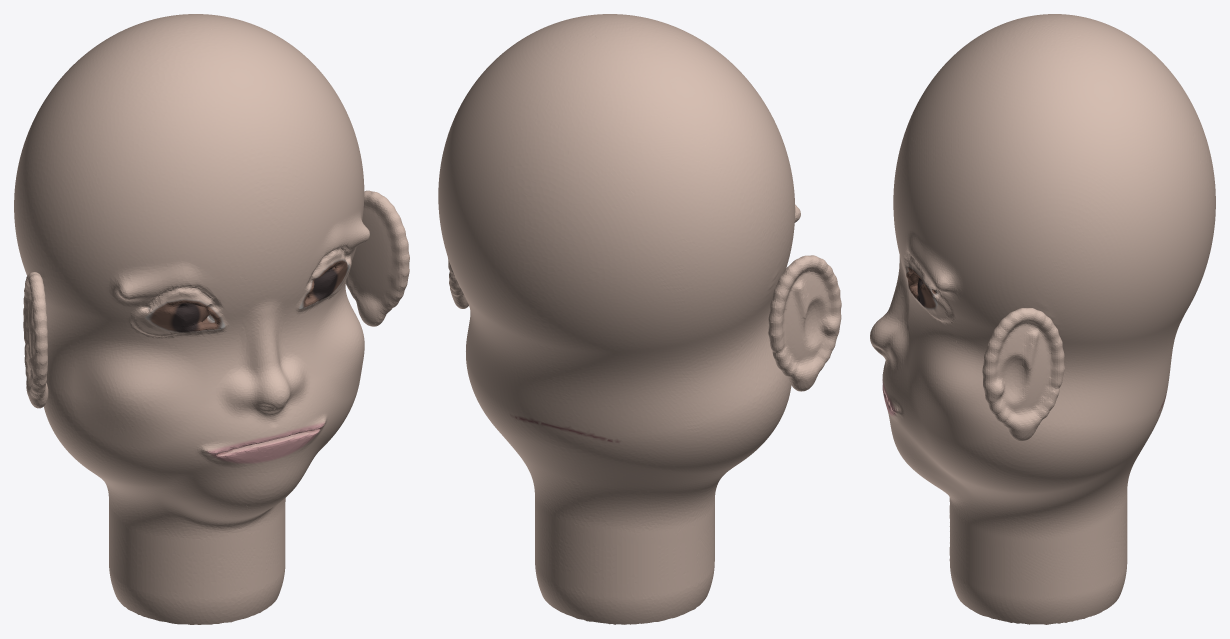
Rendered from karma_face_stage1_F_neutral_EXPERIMENT.glb.
3 views of the same model, side by side, from view 1: azimuth 30°, elevation 25°; view 2: azimuth 150°, elevation 25°; view 3: azimuth 270°, elevation 25° (orthographic).
Parts seen in each view (by area): view 1: head; view 2: head; view 3: head.
Boxes of the visible parts, x1,y1,x2,y2 form: head: (14, 14, 409, 624); head: (438, 14, 841, 624); head: (870, 14, 1215, 624).
Bounding box in the file's own units: 2.7 × 3.83 × 2.14.
